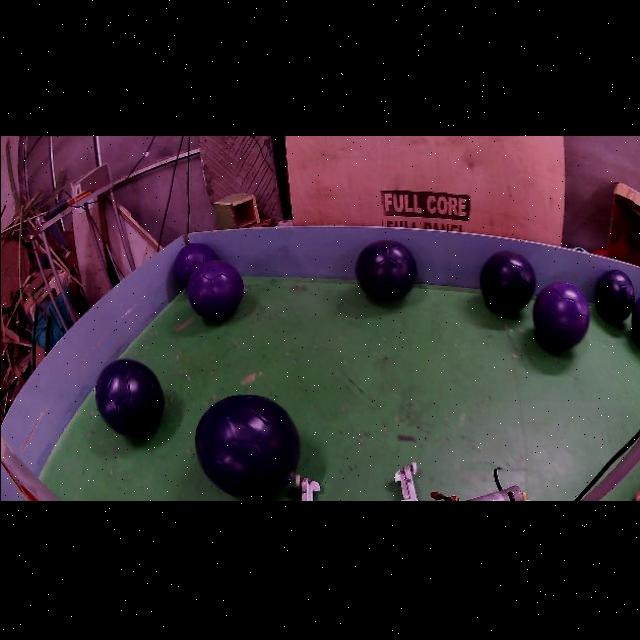B: (194, 393, 299, 497), (95, 357, 163, 435), (354, 238, 416, 299), (479, 249, 534, 313), (595, 268, 633, 322)
P: (533, 280, 589, 349), (186, 258, 243, 317), (172, 242, 217, 284), (631, 295, 640, 345)
